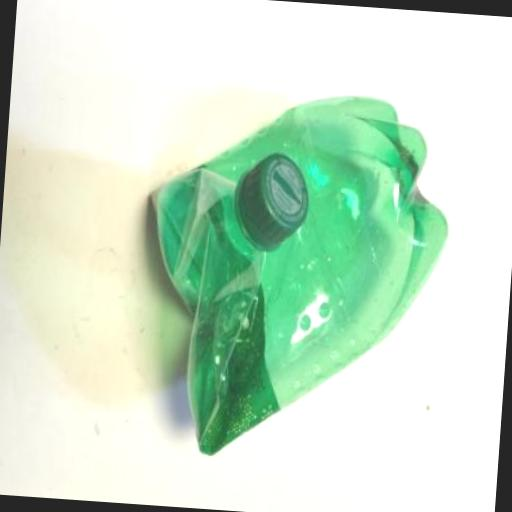plastic: (134, 84, 459, 472), (136, 156, 299, 462), (232, 155, 314, 256)
